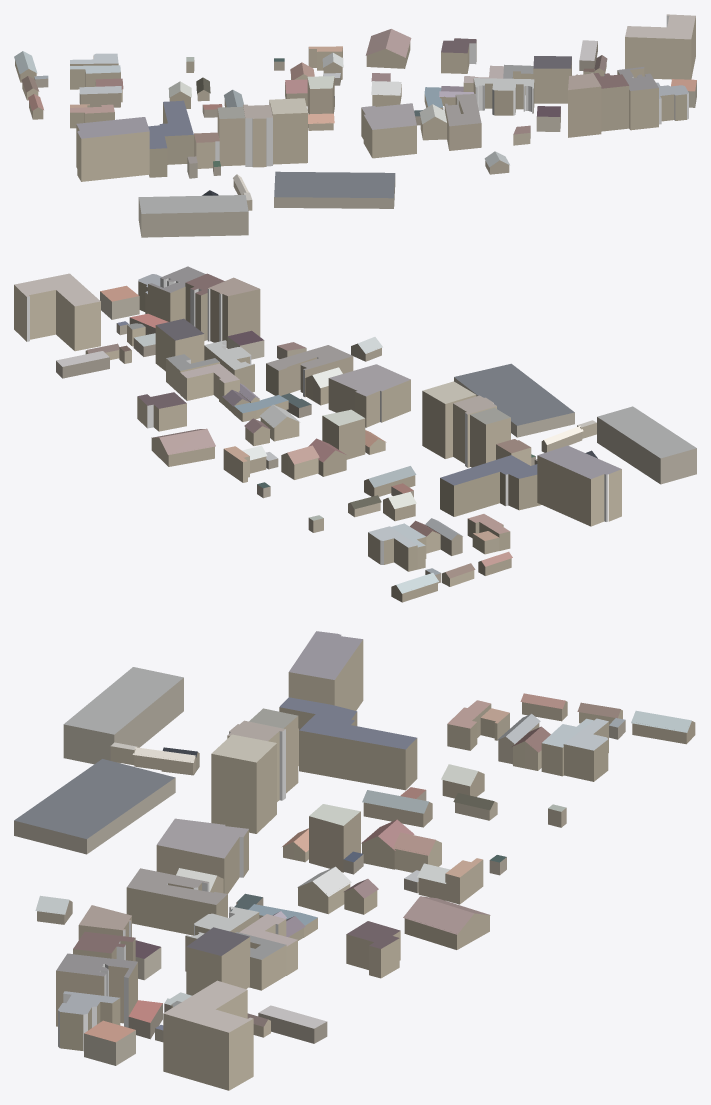
3 renders of one model, top to bottom at view 1: azimuth 30°, elevation 25°; view 2: azimuth 150°, elevation 25°; view 3: azimuth 270°, elevation 25°, orthographic. The views are drawn at different scales.
Parts seen in each view (by area): view 1: tuile; view 2: tuile; view 3: tuile.
Part boxes in pixels (x1,y1,x2,y2): tuile: (14,14,696,237); tuile: (14,266,696,602); tuile: (14,631,695,1090).
Bounding box in the file's own units: 274 × 27.84 × 193.
